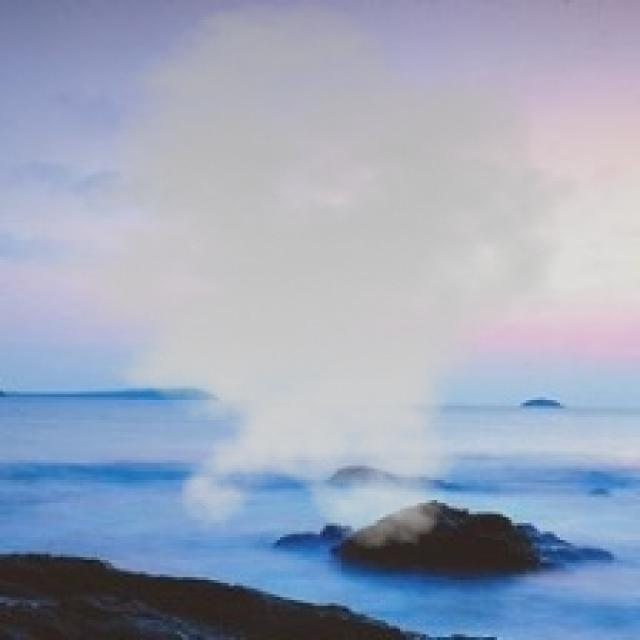smoke: (25, 0, 595, 552)
